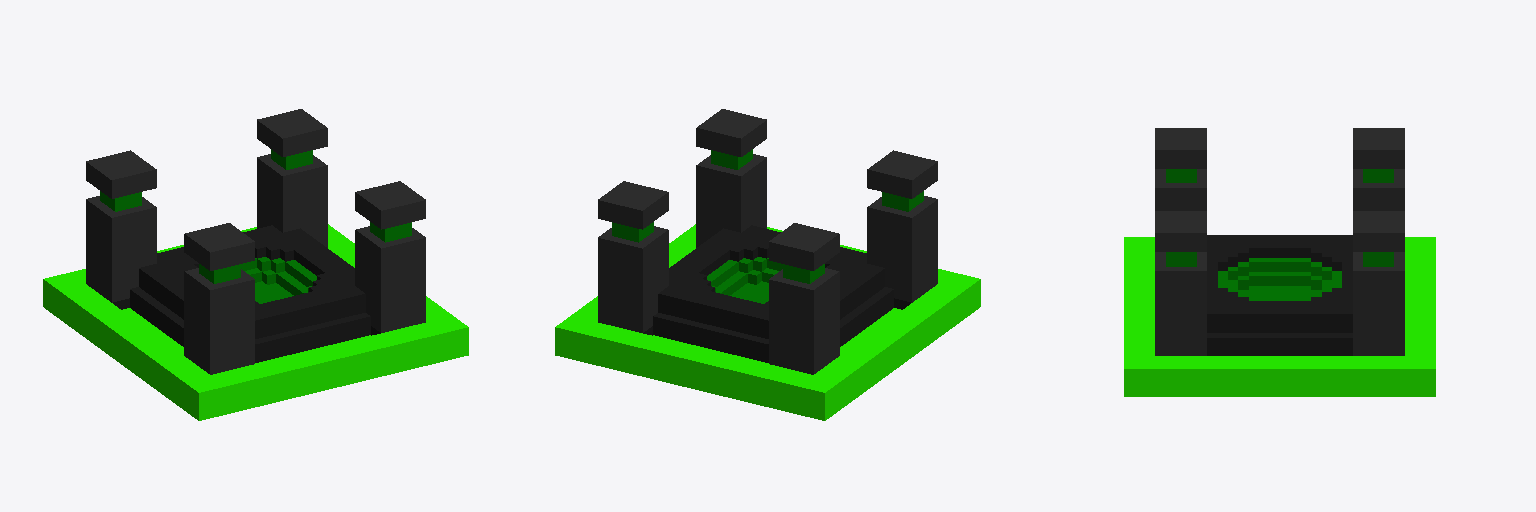
3 renders of one model, left to right at view 1: azimuth 30°, elevation 25°; view 2: azimuth 150°, elevation 25°; view 3: azimuth 270°, elevation 25°, orthographic.
Parts seen in each view (by area): view 1: object 1; view 2: object 1; view 3: object 1.
Boxes of the visible parts, x1,y1,x2,y2 form: object 1: [43, 109, 468, 420]; object 1: [555, 109, 980, 420]; object 1: [1124, 128, 1435, 396].
Size of the model in its own units: 3 by 1.6 by 3.
Materials: 1 (1 with a texture image).